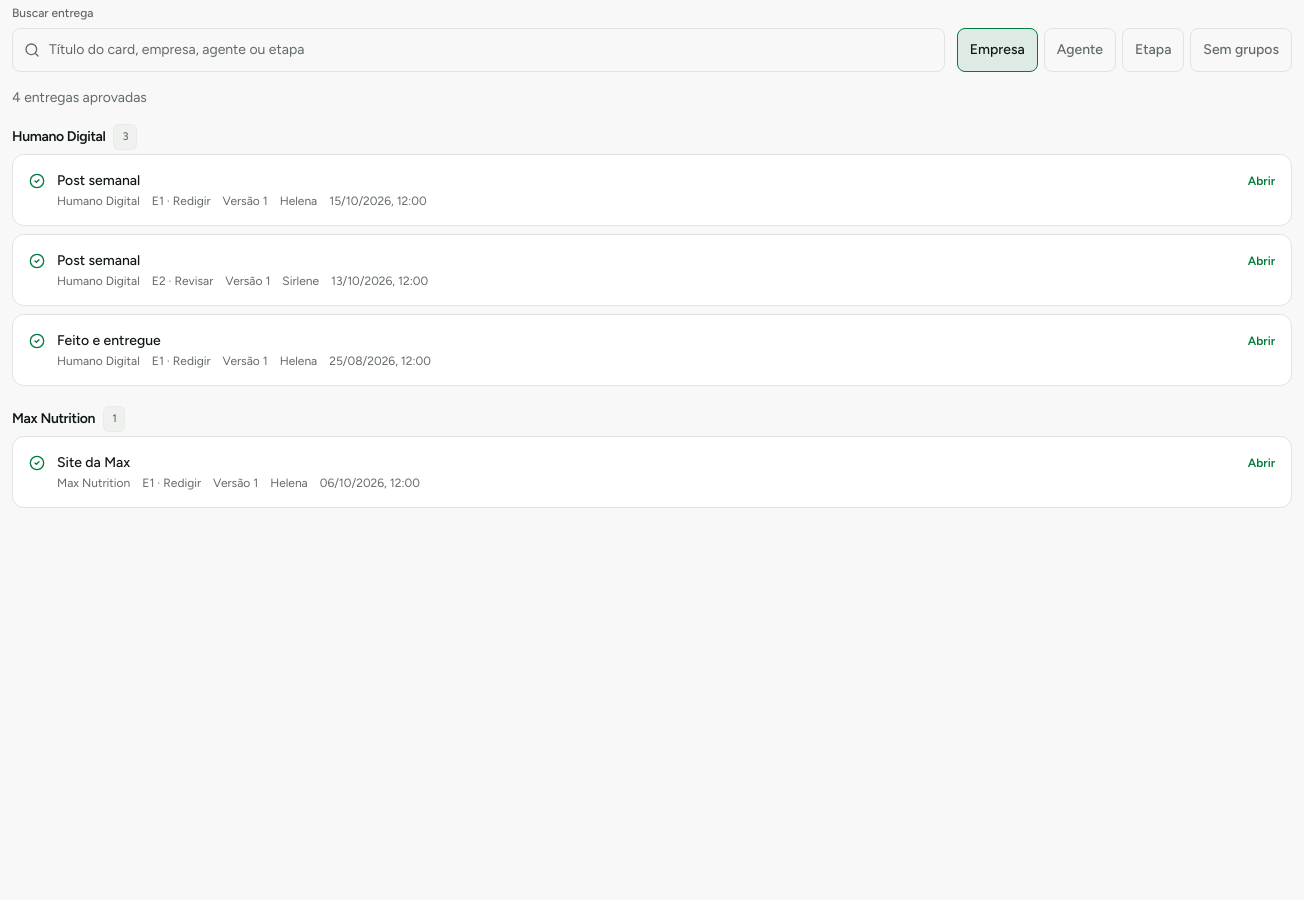
it: mostra erro de carregamento sem inventar texto e deixa tentar de novo
The image size is (1304, 900).
What coordinates should you click on to do the following:
click the button "Post semanal"
I would click on:
 (99, 180)
Its box is x1=13 y1=155 x2=1291 y2=225.
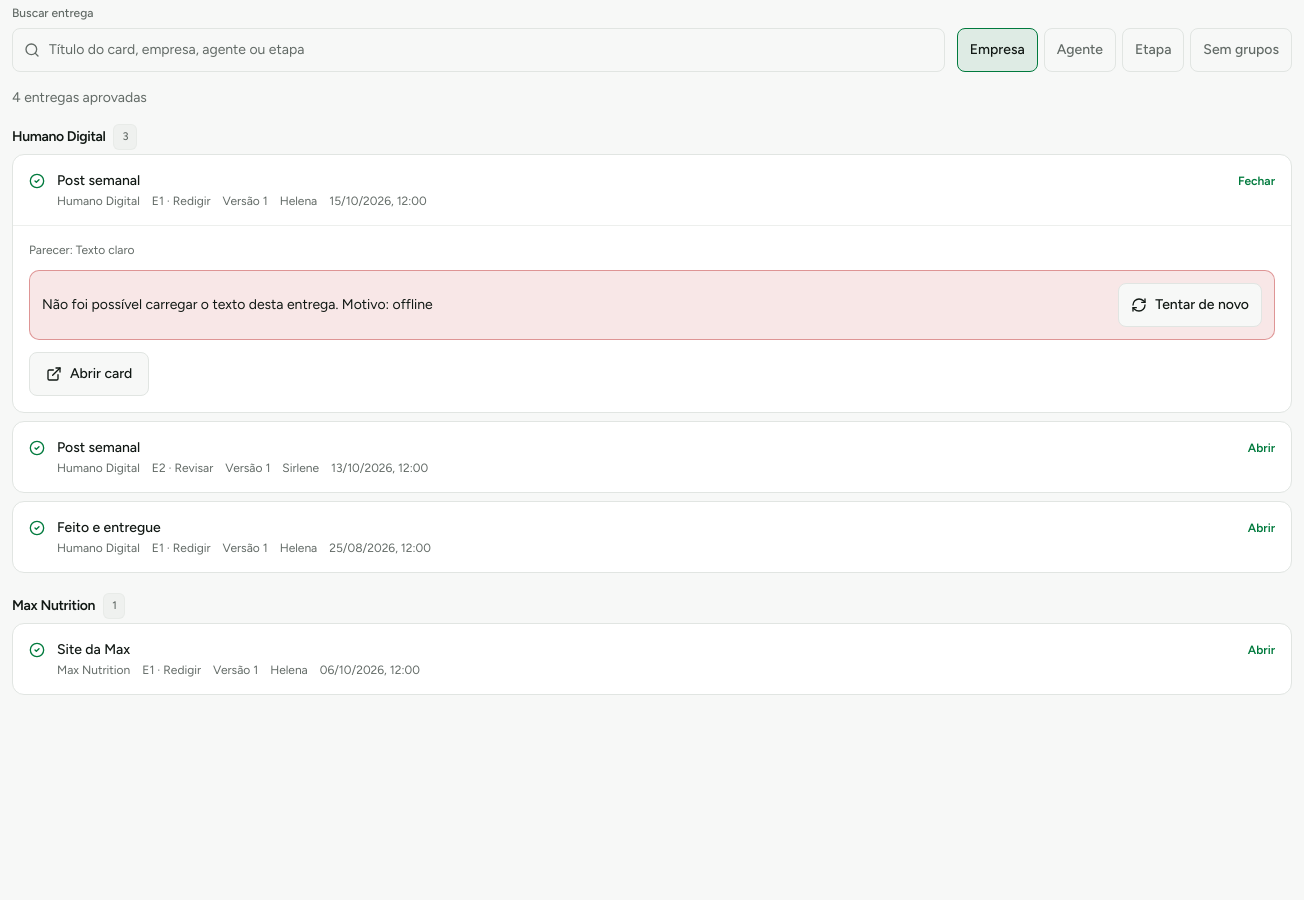
expect the text "Vitamina D no inverno" is not shown: met
expect the text "Não foi possível carregar o texto desta entrega. Motivo: offline" is shown: met, box x1=42 y1=296 x2=433 y2=313
What coordinates should you click on to do the following:
click the button "Tentar de novo"
I would click on:
 (1190, 305)
Its box is x1=1118 y1=283 x2=1262 y2=327.
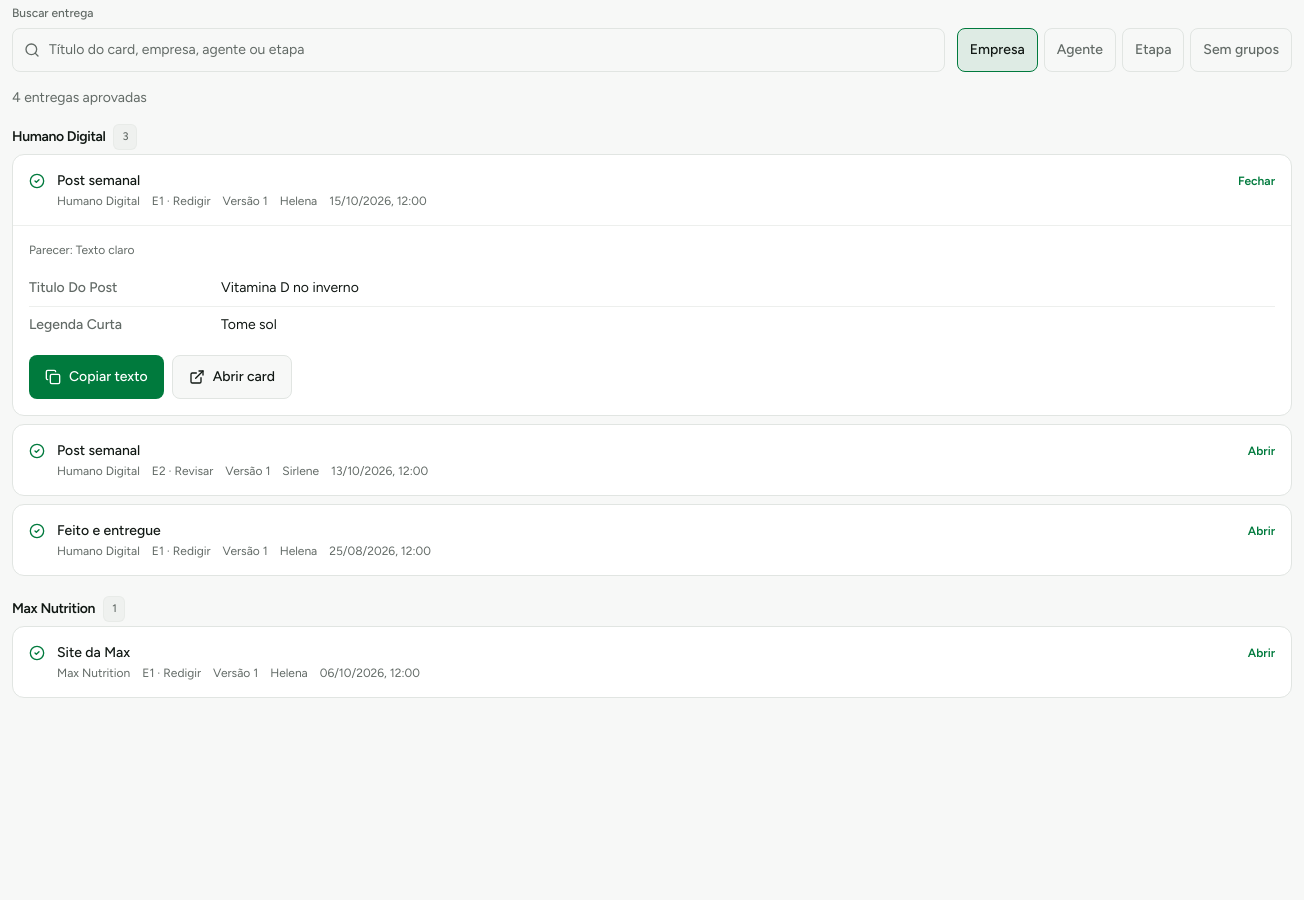
expect the text "Vitamina D no inverno" is shown: met, box x1=221 y1=279 x2=359 y2=296
